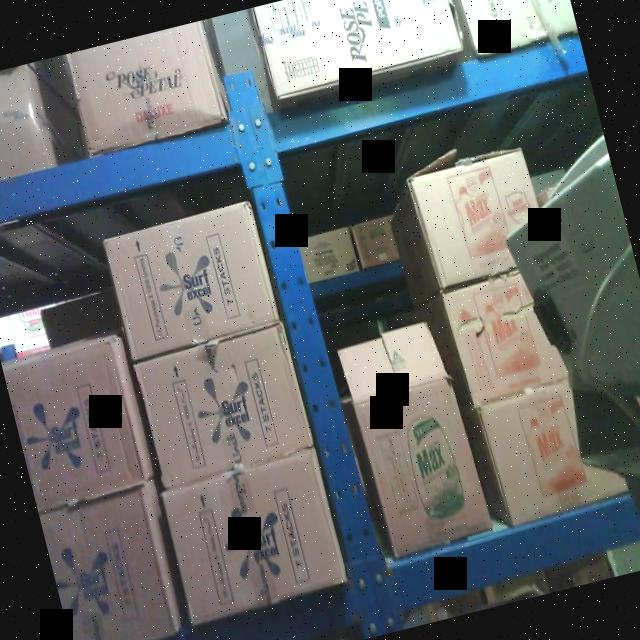box: (343, 328, 490, 551), (168, 462, 350, 619), (101, 203, 281, 360), (133, 329, 314, 485), (2, 340, 151, 511), (254, 0, 471, 102), (255, 0, 466, 100), (42, 496, 186, 640), (70, 26, 228, 152), (447, 272, 581, 407), (412, 154, 548, 287)
